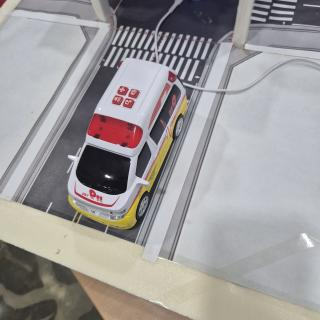Ambulance: (68, 58, 187, 229)
